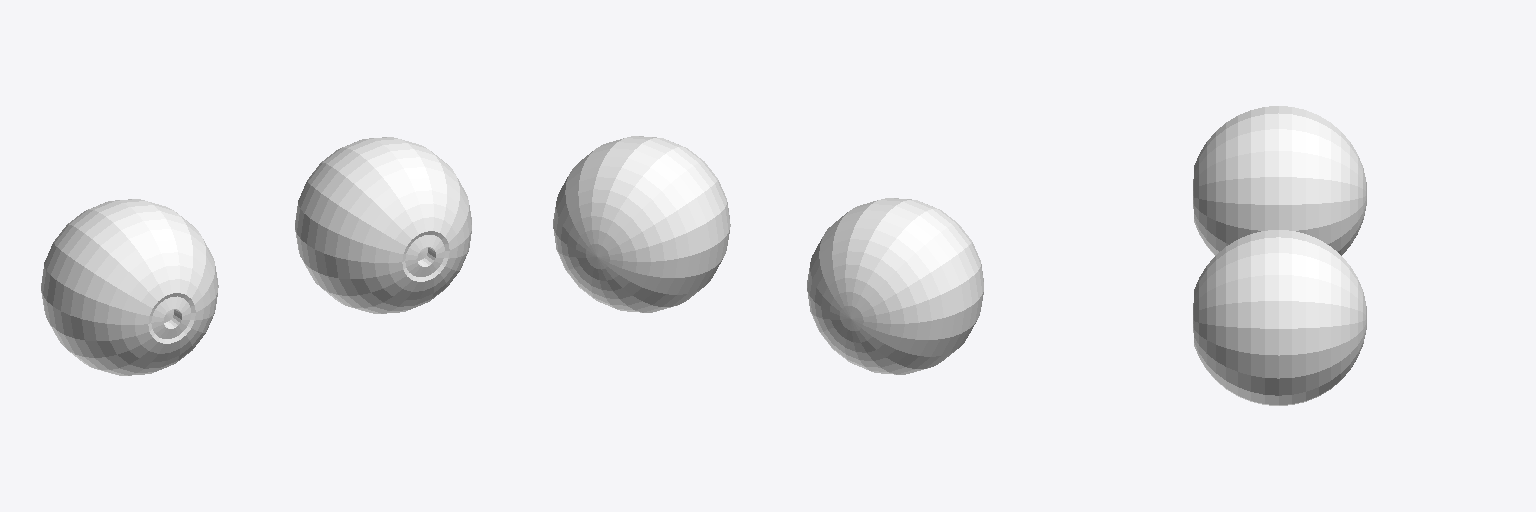
File: KongLowPoly_low.obj
The picture shows the model from 3 angles: view 1: azimuth 30°, elevation 25°; view 2: azimuth 150°, elevation 25°; view 3: azimuth 270°, elevation 25°; orthographic projection.
Visible parts, largest first — view 1: TempEye Kong All_Kong, Kong All_Kong TempEye1; view 2: Kong All_Kong TempEye1, TempEye Kong All_Kong; view 3: TempEye Kong All_Kong, Kong All_Kong TempEye1.
Part boxes in pixels (x1,y1,x2,y2): TempEye Kong All_Kong: (295,137,471,313); Kong All_Kong TempEye1: (41,199,218,375); Kong All_Kong TempEye1: (807,198,983,374); TempEye Kong All_Kong: (553,136,730,312); TempEye Kong All_Kong: (1193,230,1366,405); Kong All_Kong TempEye1: (1193,106,1366,255).
Bounding box in the file's own units: 0.6595 × 0.2491 × 0.2449.